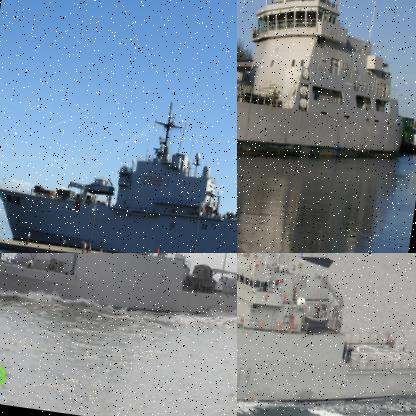Military Ship: (0, 79, 236, 252), (237, 0, 415, 194), (237, 253, 415, 415), (0, 253, 236, 339)
